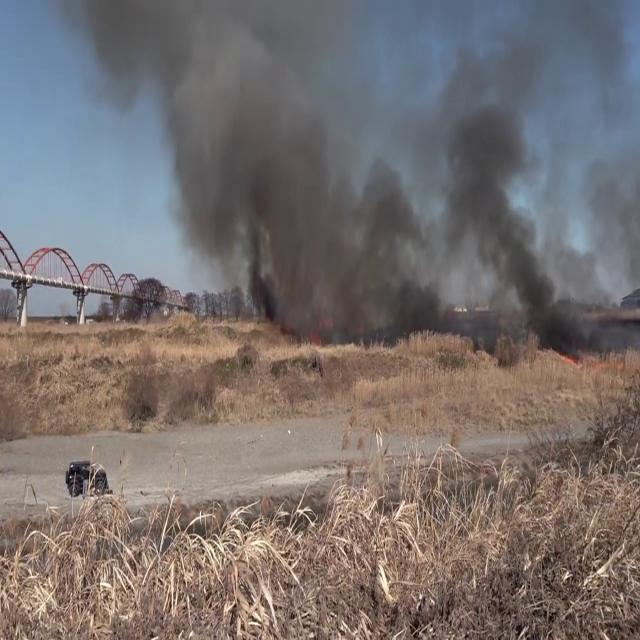Smoke: (14, 0, 638, 336)
